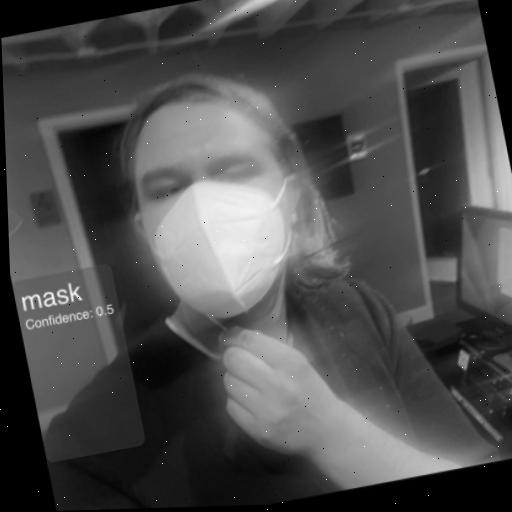mask: (93, 42, 353, 349)
